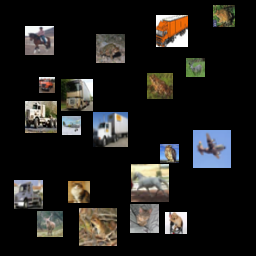automobile: (57, 115, 86, 144), (136, 104, 158, 126), (10, 111, 32, 133)
bird: (100, 195, 132, 227), (95, 125, 114, 144)
cat: (193, 13, 231, 51), (164, 17, 190, 43), (150, 59, 172, 81)
deer: (99, 22, 128, 51), (196, 81, 222, 107), (51, 175, 77, 201)
dog: (152, 146, 187, 181), (159, 104, 191, 136), (164, 195, 186, 217)
frog: (100, 154, 138, 192), (209, 134, 244, 169), (30, 198, 49, 217), (102, 53, 118, 69)
ship: (9, 6, 41, 38), (38, 72, 57, 91)
